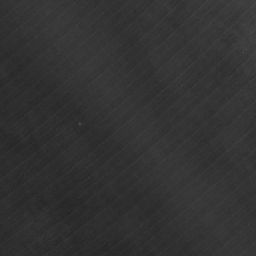Target: (77, 121, 82, 126)
